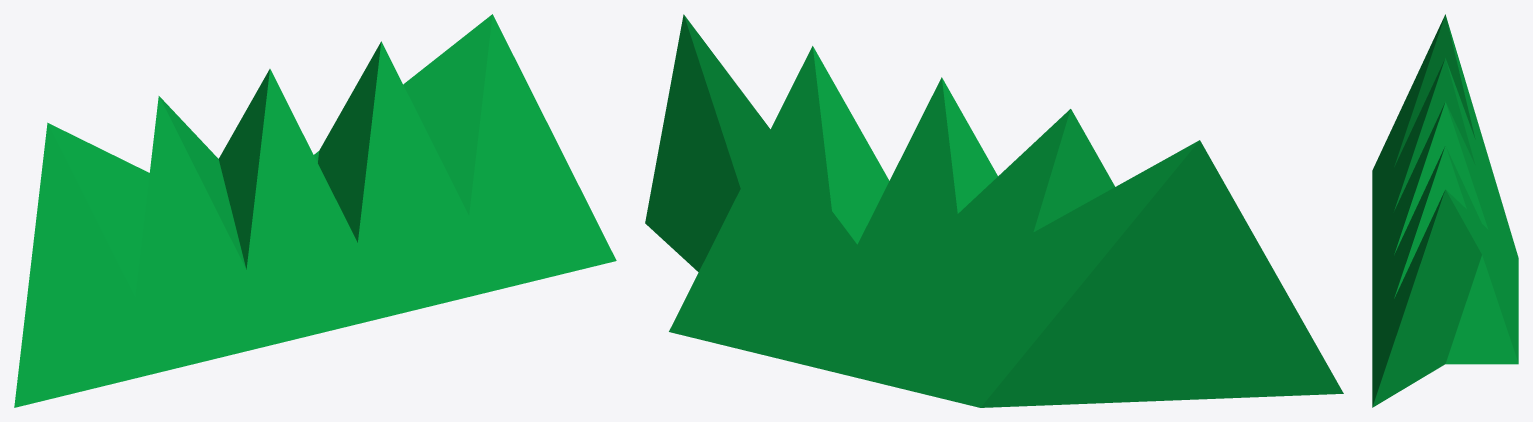
File: block_type_pCone5.fbx
3 views of the same model, side by side, from view 1: azimuth 30°, elevation 25°; view 2: azimuth 150°, elevation 25°; view 3: azimuth 270°, elevation 25° (orthographic). The views are drawn at different scales.
Visible parts, largest first — view 1: pCone5; view 2: pCone5; view 3: pCone5.
Boxes of the visible parts, x1,y1,x2,y2 form: pCone5: [14, 14, 616, 407]; pCone5: [645, 14, 1343, 407]; pCone5: [1372, 14, 1518, 407].
Bounding box in the file's own units: 5.41 × 2 × 1.41.
